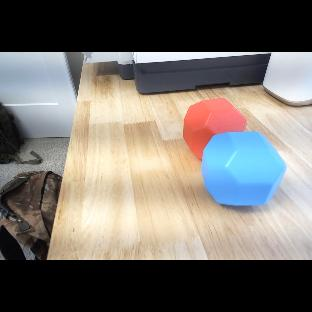V5_BLUE: (203, 130, 288, 206)
V5_RED: (183, 99, 247, 150)
